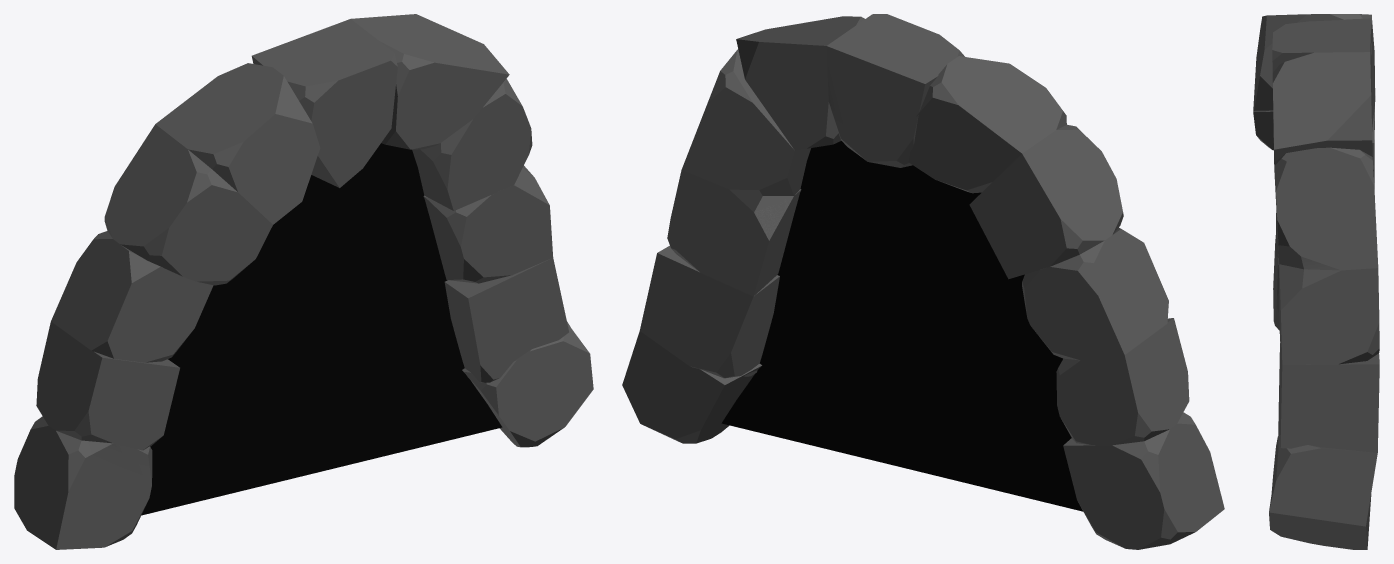
The model's file is Cave_Entrance.fbx.
3 renders of one model, left to right at view 1: azimuth 30°, elevation 25°; view 2: azimuth 150°, elevation 25°; view 3: azimuth 270°, elevation 25°, orthographic. The views are drawn at different scales.
Visible parts, largest first — view 1: Cube, Plane.006; view 2: Cube, Plane.006; view 3: Cube.
Boxes of the visible parts, x1,y1,x2,y2 form: Cube: [14, 14, 593, 549]; Plane.006: [141, 143, 502, 515]; Cube: [622, 14, 1224, 549]; Plane.006: [721, 141, 1082, 511]; Cube: [1253, 14, 1379, 549].
Size of the model in its own units: 631 by 483 by 129.
